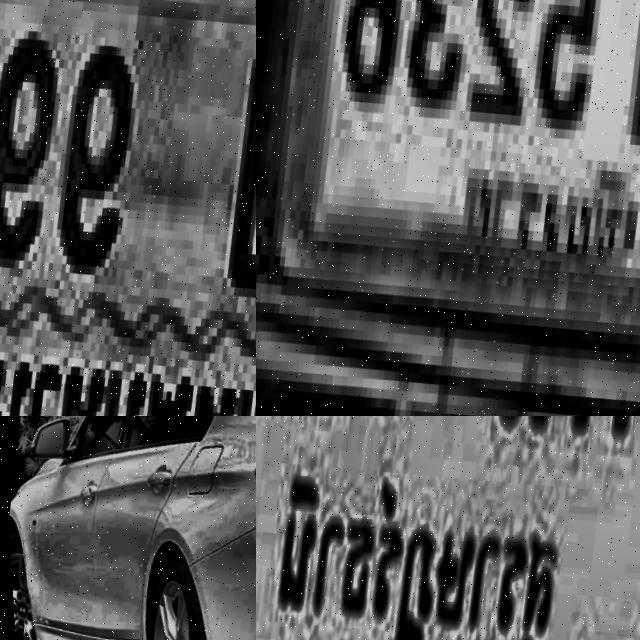license-plate: (256, 0, 640, 416), (0, 0, 256, 416), (256, 416, 640, 640)
